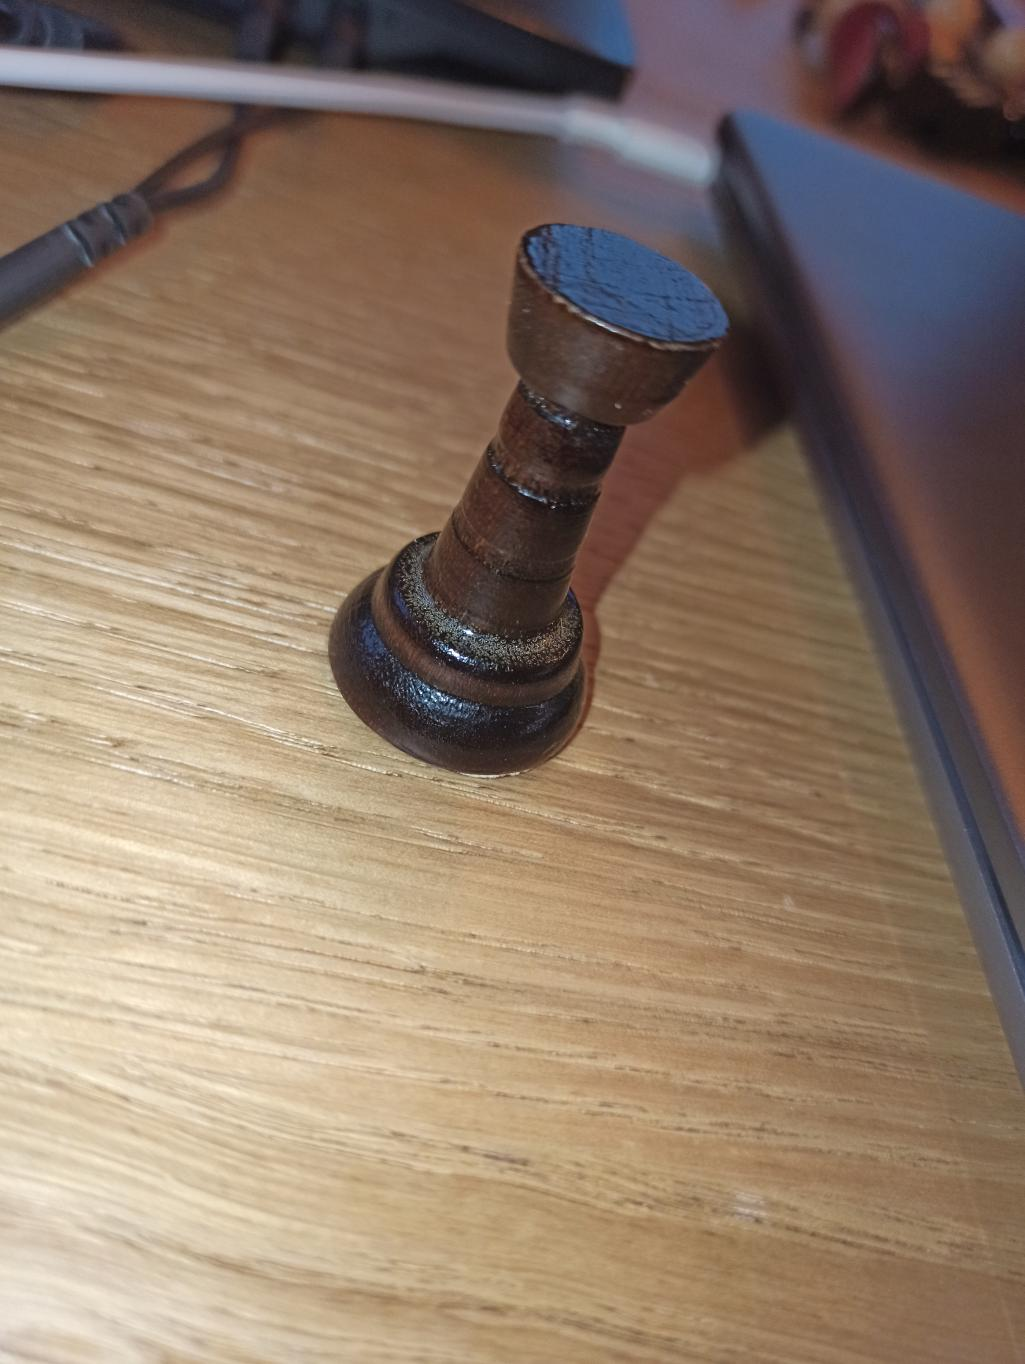brook: (325, 222, 731, 776)
